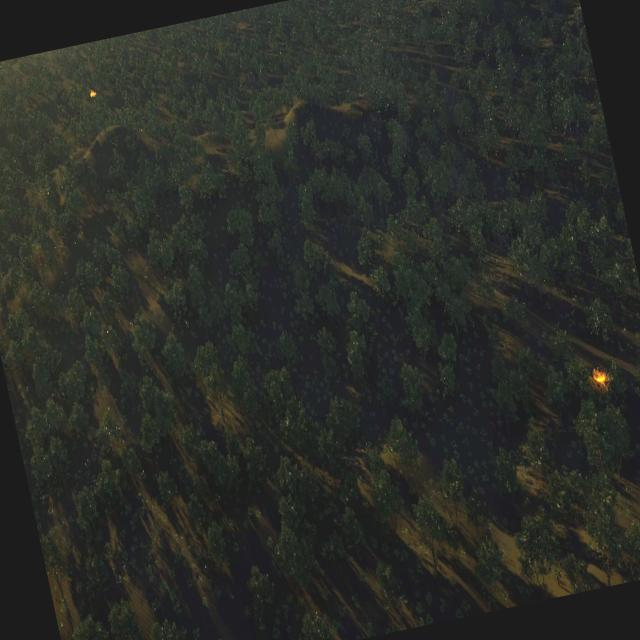fire: (590, 366, 608, 389), (88, 88, 97, 97)
